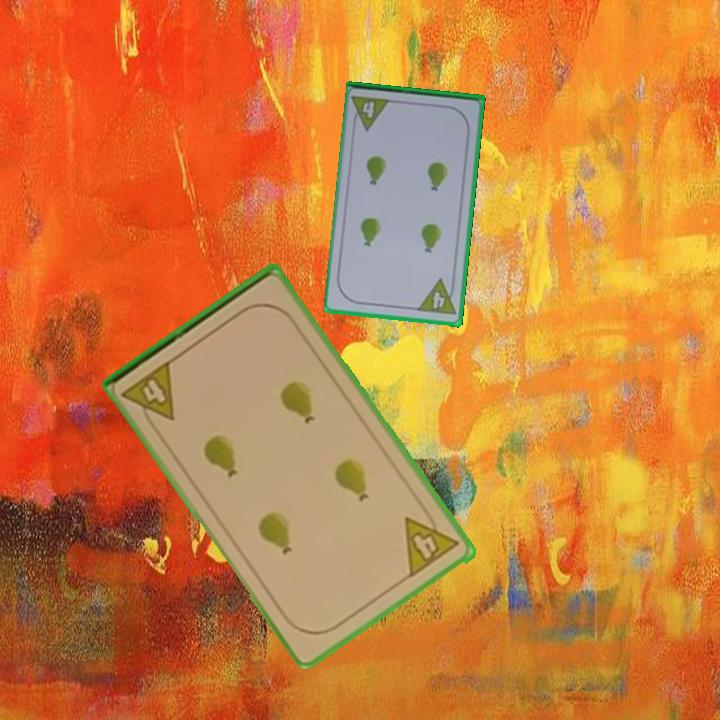4p: (400, 503, 462, 581), (118, 356, 178, 434), (414, 276, 459, 318), (349, 92, 394, 133)
